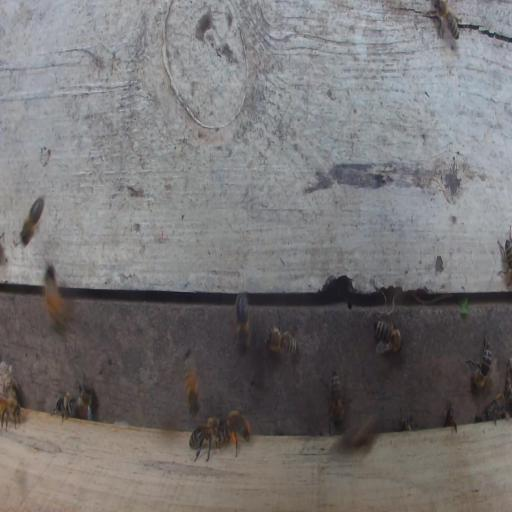nonpollenbee: (188, 415, 231, 465), (320, 367, 348, 430), (427, 1, 463, 43), (263, 323, 299, 362), (183, 346, 201, 423), (19, 195, 45, 246), (234, 286, 252, 354), (469, 339, 491, 394), (494, 224, 511, 290), (482, 387, 509, 427), (49, 387, 79, 422), (374, 320, 404, 355), (1, 392, 23, 432), (75, 380, 93, 422), (443, 404, 458, 436)
pollenbee: (226, 409, 251, 458)
